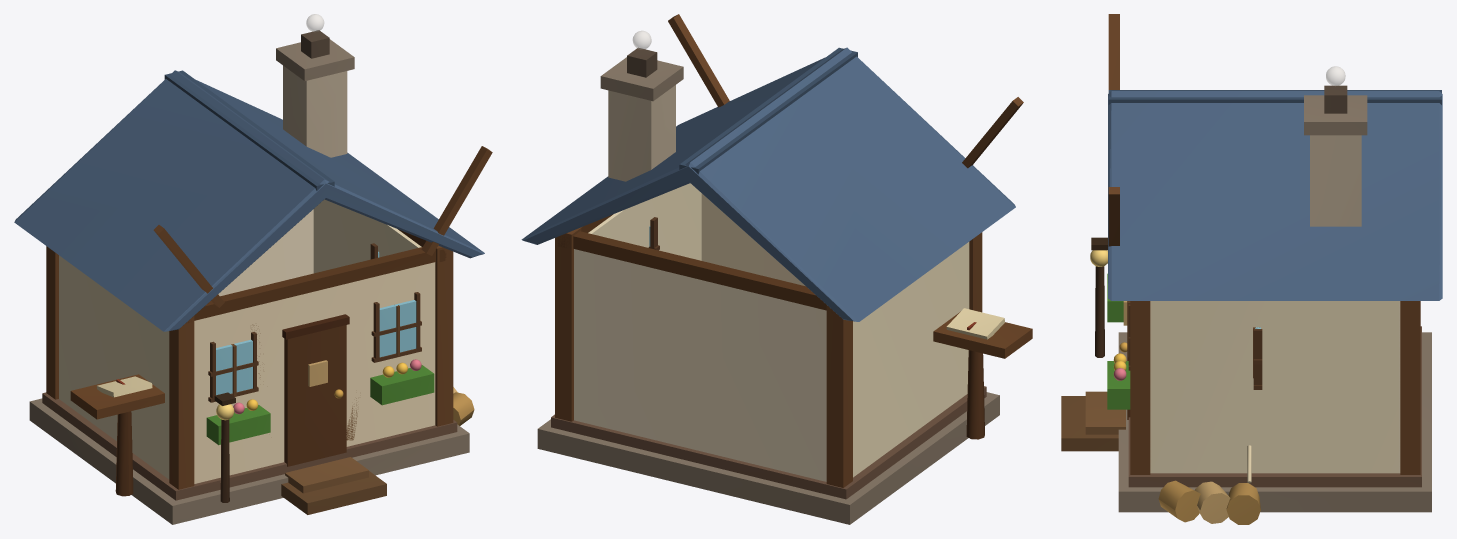
The model's file is study-hall.glb.
3 views of the same model, side by side, from view 1: azimuth 30°, elevation 25°; view 2: azimuth 150°, elevation 25°; view 3: azimuth 270°, elevation 25° (orthographic). The views are drawn at different scales.
Parts seen in each view (by area): view 1: slate-roof, wall-front, wall-left, plinth, door, floor, chimney, wall-right, plate-front, timber-2, wall-back, timber-3 (+18 smaller); view 2: slate-roof, wall-back, wall-left, plinth, floor, chimney, plate-back, wall-right, timber-0, wall-front, timber-1, ridge-cap (+8 smaller); view 3: slate-roof, wall-right, plinth, chimney, floor, timber-1, timber-3, chimney-cap, step-1, ridge-cap, step-2, scroll-barrel-2 (+8 smaller).
Boxes of the visible parts, box(x1,y1,x2,y2) form: slate-roof: box(14, 70, 484, 331); wall-front: box(194, 262, 435, 483); wall-left: box(59, 256, 169, 479); plinth: box(29, 398, 469, 524); door: box(284, 325, 346, 466); floor: box(42, 392, 457, 500); chimney: box(283, 65, 347, 157); wall-right: box(313, 199, 435, 425); plate-front: box(194, 247, 435, 320); timber-2: box(169, 316, 194, 489); wall-back: box(59, 209, 313, 398); timber-3: box(435, 245, 453, 426); slate-roof: box(521, 47, 1015, 321); wall-back: box(574, 249, 826, 481); wall-left: box(853, 242, 969, 477); plinth: box(537, 392, 999, 524); floor: box(551, 386, 986, 499); chimney: box(608, 85, 675, 181); plate-back: box(573, 231, 826, 310); wall-right: box(574, 183, 701, 299); timber-0: box(826, 305, 852, 487); wall-front: box(701, 193, 804, 285); timber-1: box(555, 227, 581, 421); ridge-cap: box(679, 47, 857, 174); slate-roof: box(1108, 91, 1442, 300); wall-right: box(1150, 301, 1400, 473); plinth: box(1118, 332, 1431, 512); chimney: box(1310, 135, 1361, 226); floor: box(1128, 326, 1421, 487); timber-1: box(1400, 301, 1420, 474); timber-3: box(1130, 301, 1150, 474); chimney-cap: box(1304, 95, 1367, 135); step-1: box(1061, 396, 1118, 451); ridge-cap: box(1108, 90, 1441, 104); step-2: box(1085, 391, 1125, 434); scroll-barrel-2: box(1158, 480, 1200, 522).
Size of the model in its own units: 3.36 by 3.19 by 2.65.
